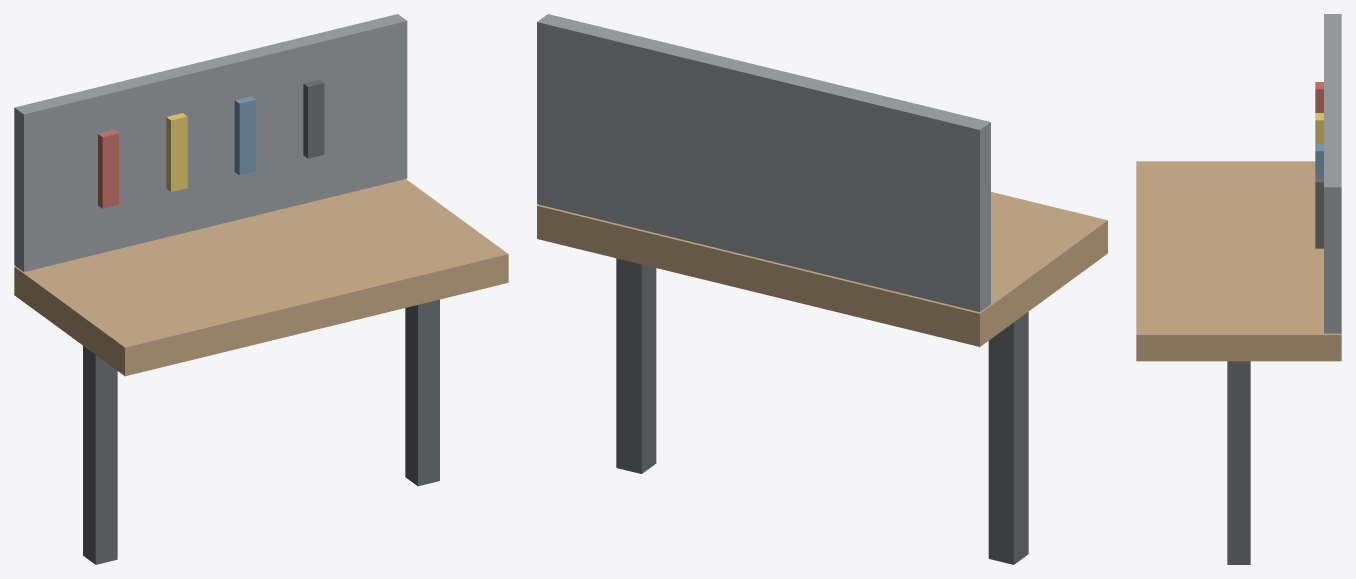
The model's file is workbench_03.glb.
3 renders of one model, left to right at view 1: azimuth 30°, elevation 25°; view 2: azimuth 150°, elevation 25°; view 3: azimuth 270°, elevation 25°, orthographic. The views are drawn at different scales.
Parts seen in each view (by area): view 1: backsplash, top, leg-0.588, leg0.588, tool2, tool1, tool3, tool0; view 2: backsplash, top, leg-0.588, leg0.588; view 3: top, backsplash, leg0.588, tool3, tool0, tool1, tool2.
Part boxes in pixels (x1,y1,x2,y2): backsplash: (14, 14, 407, 271); top: (14, 179, 508, 376); leg-0.588: (83, 346, 117, 564); leg0.588: (405, 299, 439, 486); tool2: (234, 96, 255, 175); tool1: (166, 113, 187, 191); tool3: (303, 79, 324, 158); tool0: (98, 130, 118, 208); backsplash: (537, 14, 990, 311); top: (537, 192, 1107, 346); leg-0.588: (988, 312, 1028, 564); leg0.588: (616, 258, 656, 473); top: (1136, 161, 1341, 361); backsplash: (1324, 14, 1341, 333); leg0.588: (1227, 361, 1250, 564); tool3: (1315, 175, 1323, 248); tool0: (1315, 82, 1323, 112); tool1: (1315, 113, 1323, 143); tool2: (1315, 144, 1323, 174).
Size of the model in its own units: 1.4 by 1.46 by 0.7.
